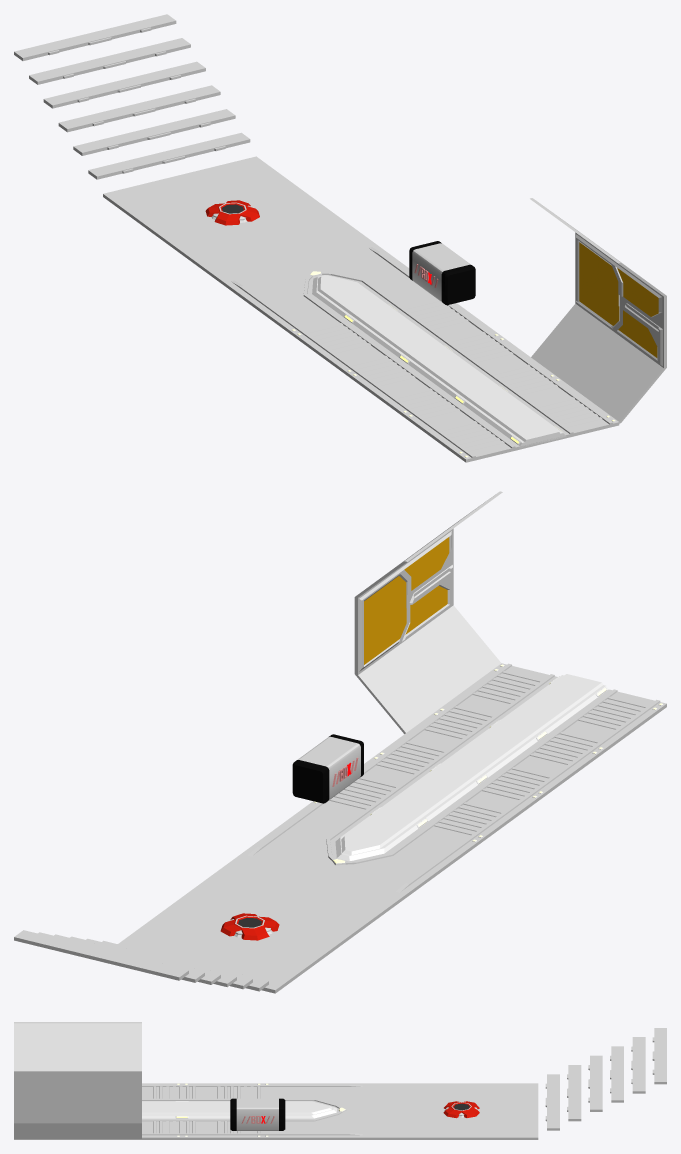
The model's file is AssetKitA.fbx.
3 views of the same model, one above another, from view 1: azimuth 30°, elevation 25°; view 2: azimuth 150°, elevation 25°; view 3: azimuth 270°, elevation 25° (orthographic). The views are drawn at different scales.
Parts seen in each view (by area): view 1: FloorA, StairsA, FloorB, SquareFloorA, WallA, WallDecoA, LongBox, DecoA; view 2: FloorA, FloorB, SquareFloorA, WallA, WallDecoA, StairsA, LongBox, DecoA; view 3: WallA, SquareFloorA, FloorB, FloorA, StairsA, LongBox, DecoA.
Part boxes in pixels (left/top/right/bottom): FloorA: left=289, top=295, right=619, bottom=462; StairsA: left=14, top=14, right=264, bottom=203; FloorB: left=200, top=227, right=431, bottom=332; SquareFloorA: left=112, top=163, right=353, bottom=267; WallA: left=530, top=198, right=666, bottom=423; WallDecoA: left=575, top=234, right=662, bottom=365; LongBox: left=409, top=241, right=475, bottom=305; DecoA: left=205, top=200, right=259, bottom=225; FloorA: left=311, top=663, right=666, bottom=846; FloorB: left=215, top=803, right=475, bottom=916; SquareFloorA: left=120, top=873, right=380, bottom=986; WallA: left=354, top=491, right=502, bottom=733; WallDecoA: left=359, top=531, right=452, bottom=671; StairsA: left=14, top=930, right=284, bottom=993; LongBox: left=292, top=734, right=363, bottom=803; DecoA: left=220, top=913, right=279, bottom=940; WallA: left=14, top=1022, right=141, bottom=1138; SquareFloorA: left=397, top=1083, right=525, bottom=1139; FloorB: left=269, top=1083, right=397, bottom=1139; FloorA: left=14, top=1083, right=269, bottom=1139; StairsA: left=525, top=1028, right=666, bottom=1139; LongBox: left=230, top=1098, right=285, bottom=1130; DecoA: left=443, top=1101, right=479, bottom=1118.
Bounding box in the file's own units: 1310 × 1018 × 5105.
